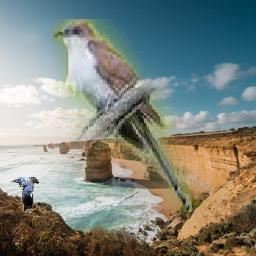Crow: (11, 177, 40, 213)
Cuckoo: (54, 20, 193, 213)
